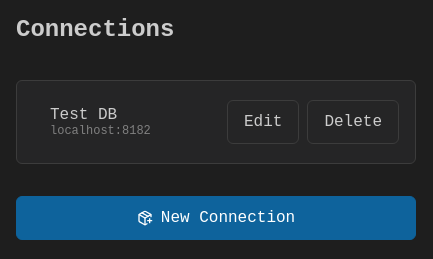
ConnectionsPanel › deletes a connection when clicking delete
Step 1. Click the button "Delete" → (353, 122), box left=307, top=100, right=399, bottom=144
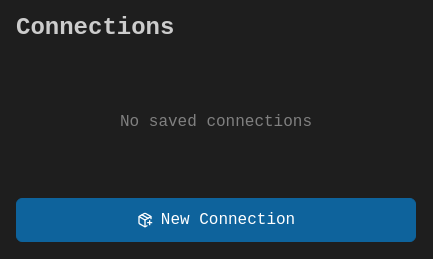
Check: the text "No saved connections" is shown, box left=120, top=113, right=312, bottom=131
